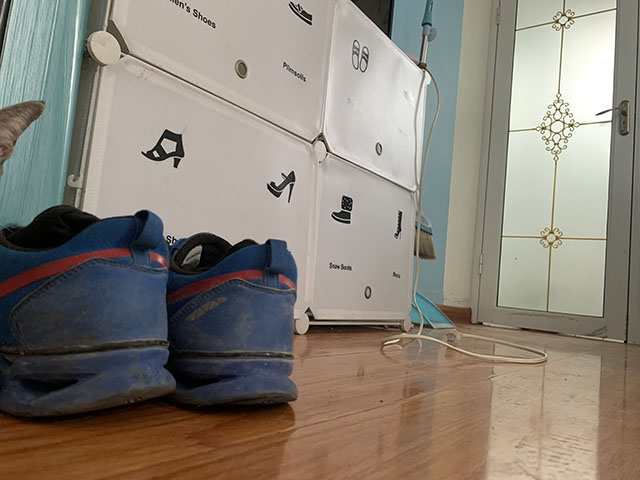cabinet: (61, 1, 432, 337)
wire: (380, 64, 549, 364)
